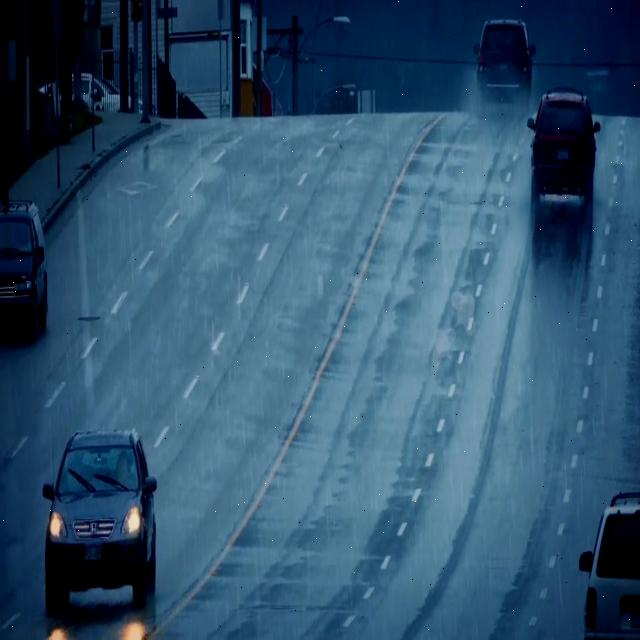Car: (43, 426, 158, 614), (527, 88, 599, 220), (579, 490, 640, 640), (0, 198, 48, 339), (472, 18, 534, 118), (71, 72, 123, 114)
